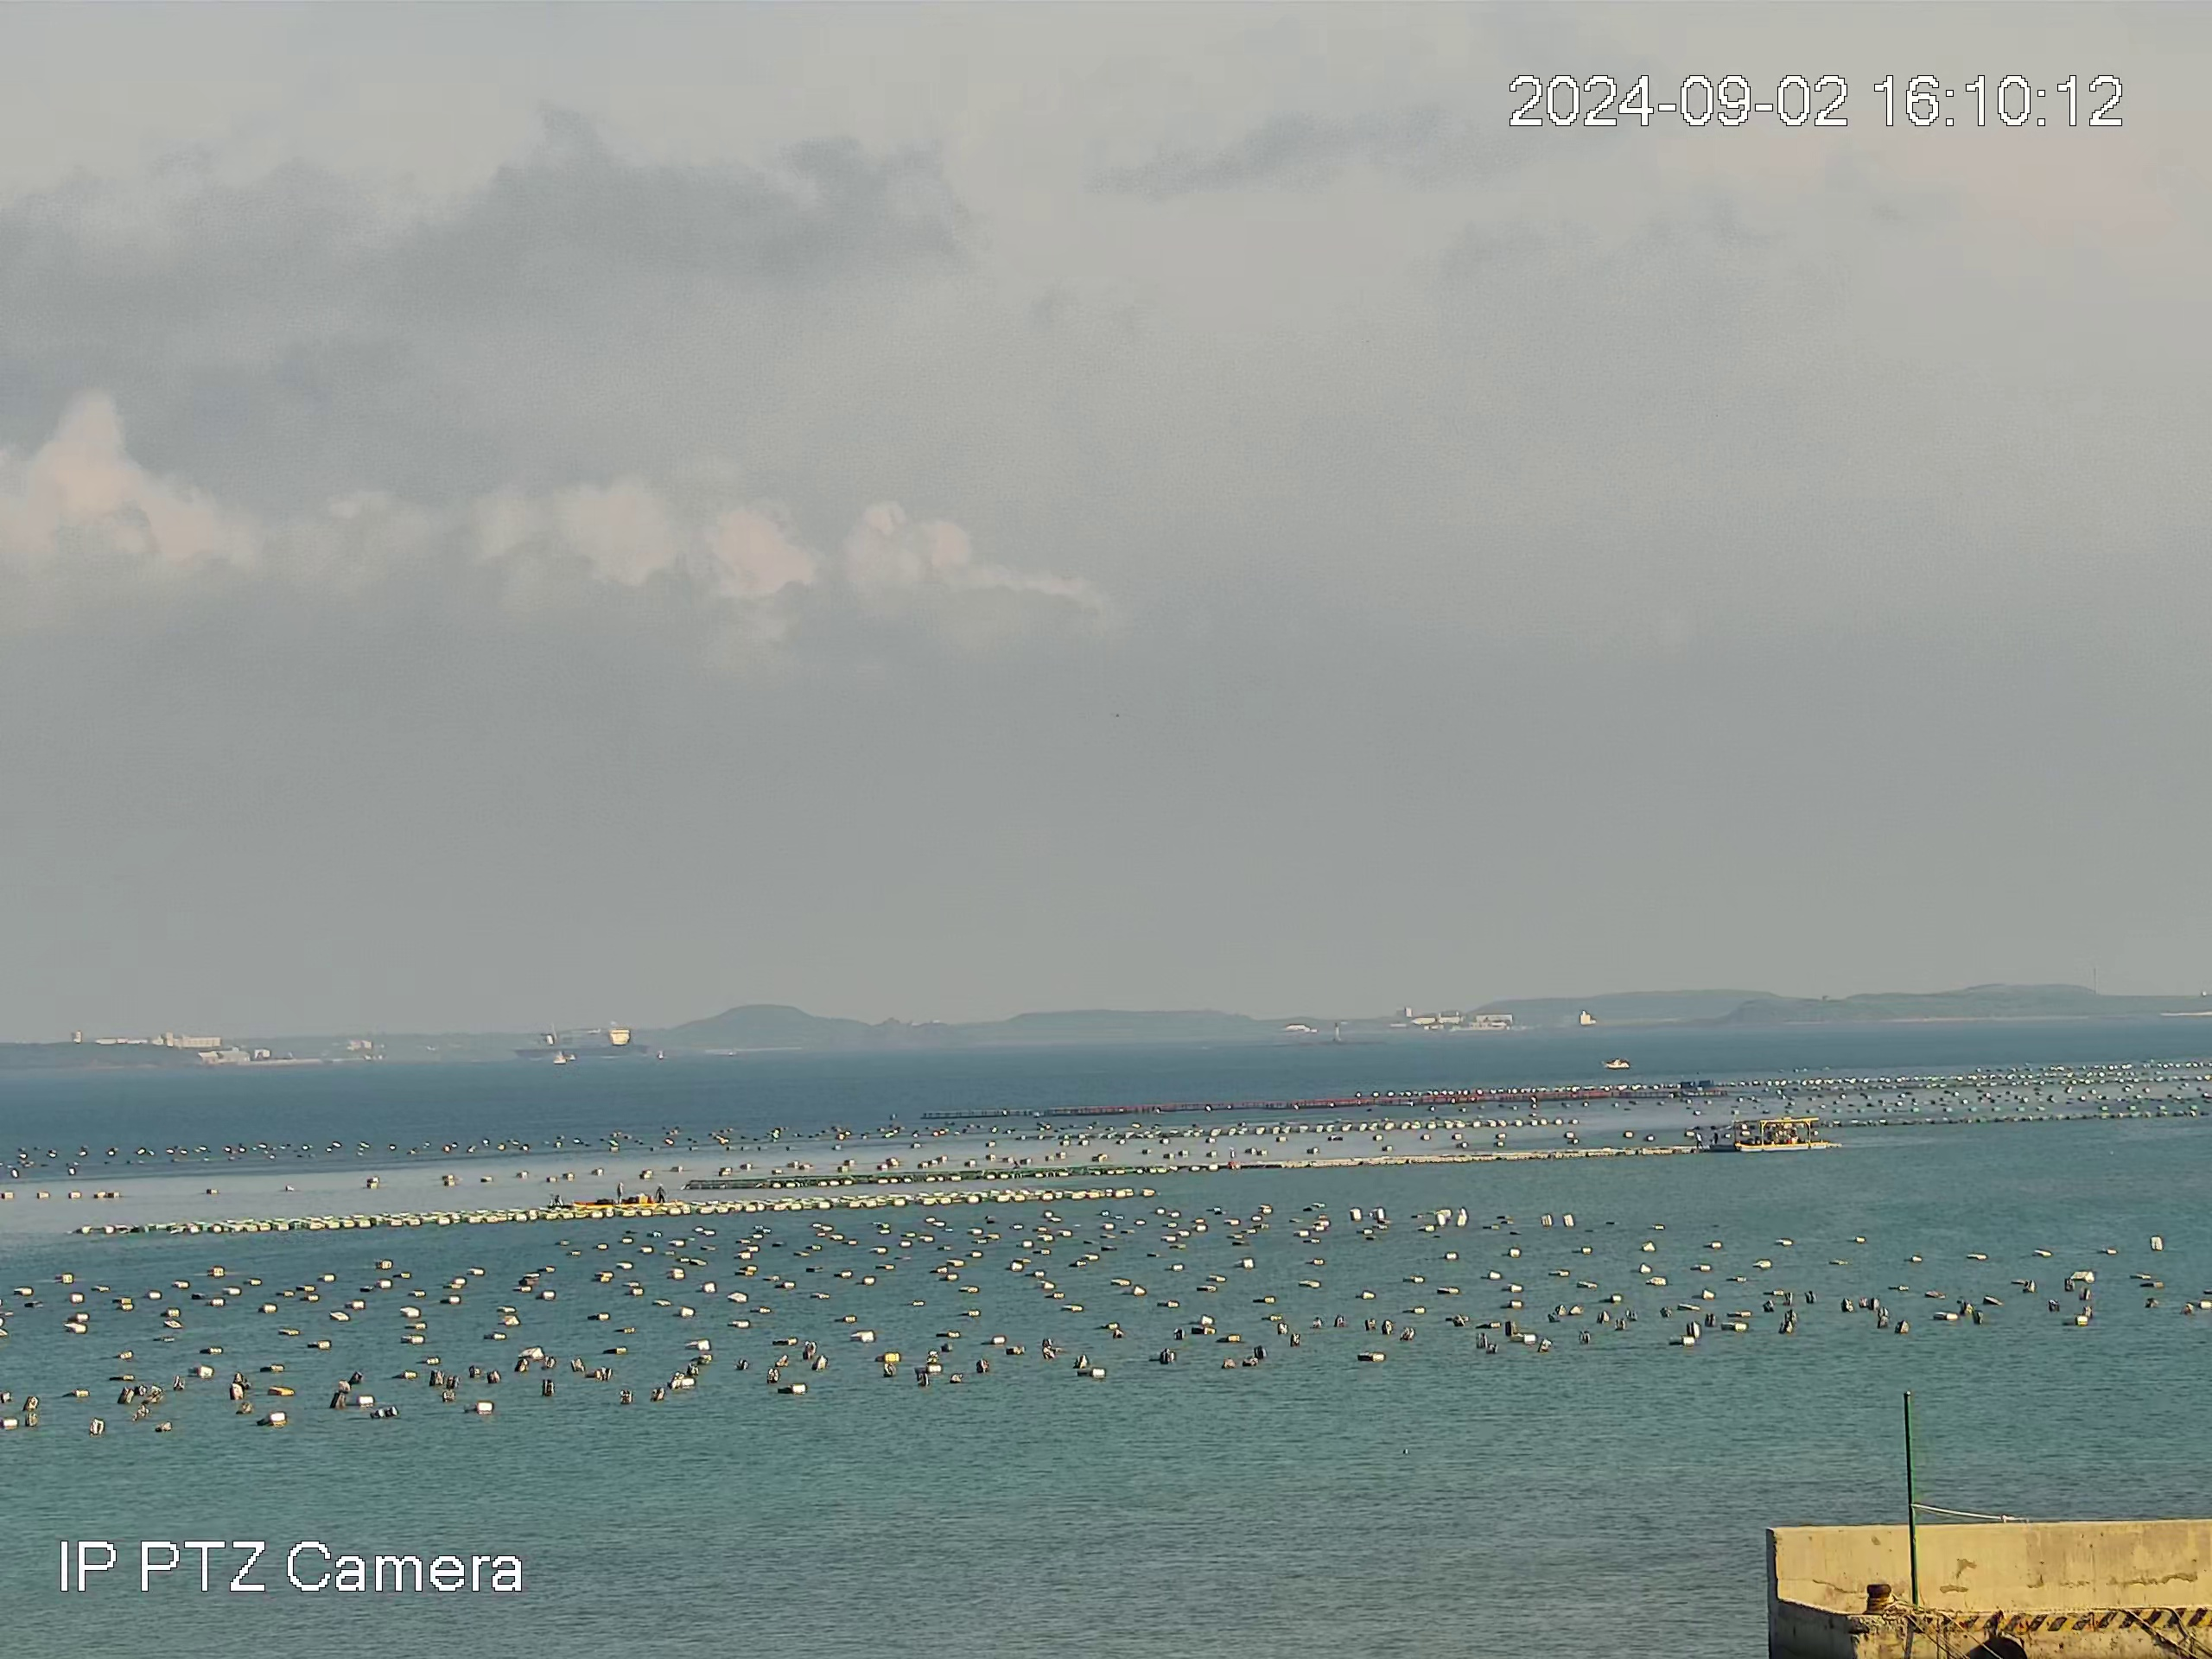boat: (511, 1026, 650, 1058), (1732, 1116, 1829, 1153), (570, 1180, 684, 1210), (1601, 1055, 1631, 1071)
